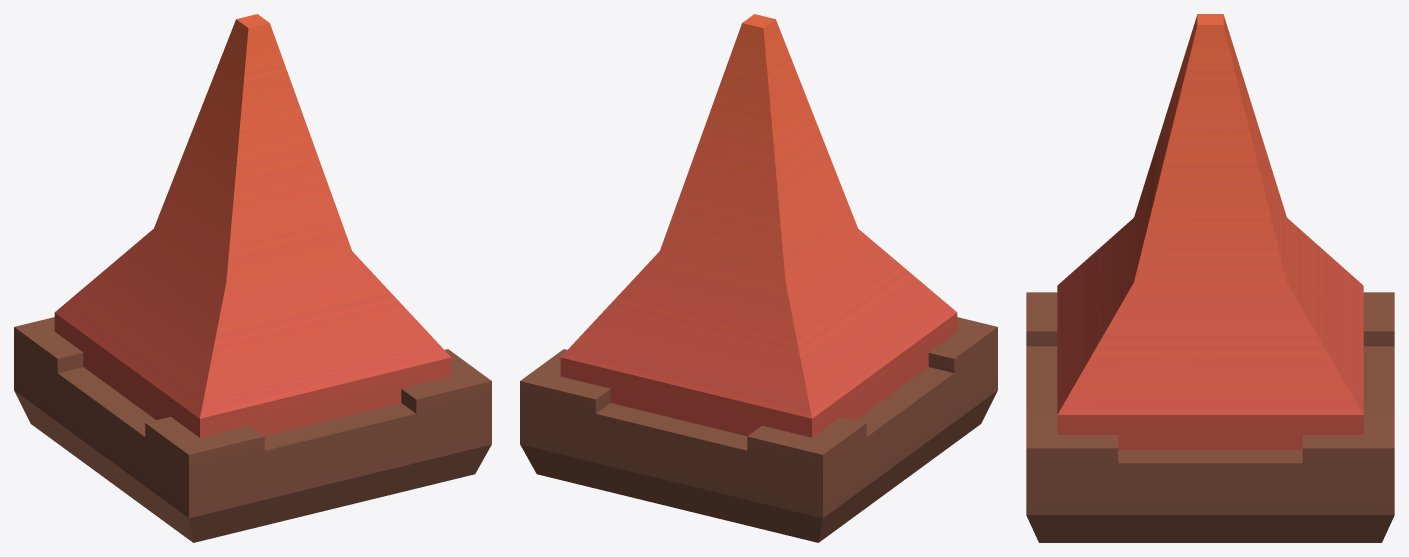
Rendered from tower-square-top-roof-high.glb.
The picture shows the model from 3 angles, left to right: view 1: azimuth 30°, elevation 25°; view 2: azimuth 150°, elevation 25°; view 3: azimuth 270°, elevation 25°; orthographic projection. The views are drawn at different scales.
Parts seen in each view (by area): view 1: tower-square-top-roof-high; view 2: tower-square-top-roof-high; view 3: tower-square-top-roof-high.
Part boxes in pixels (x1,y1,x2,y2): tower-square-top-roof-high: [14, 14, 491, 542]; tower-square-top-roof-high: [520, 14, 997, 542]; tower-square-top-roof-high: [1026, 14, 1394, 542].
Size of the model in its own units: 3 by 4.05 by 3.
1 material, 1 textured.
